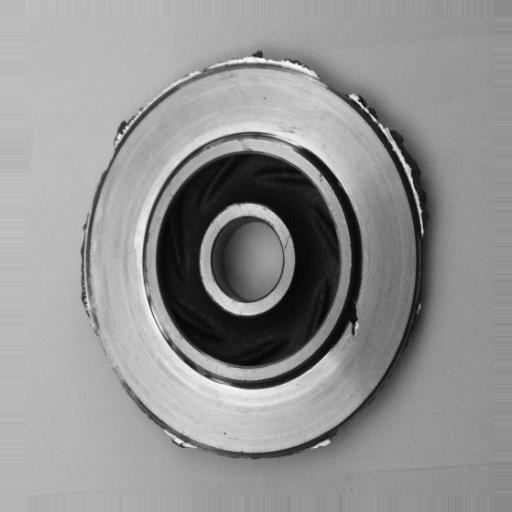casting_with_burr: (77, 46, 433, 464)
crack: (340, 289, 370, 351)
scratch: (227, 122, 316, 159)
